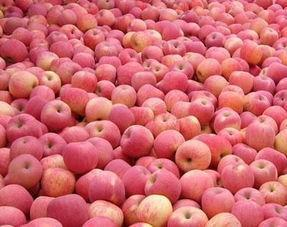apple: (4, 154, 42, 190), (143, 169, 183, 202), (88, 171, 126, 205), (63, 141, 100, 174), (174, 140, 210, 173), (39, 99, 73, 131), (119, 125, 153, 156), (39, 167, 74, 197), (201, 186, 234, 216), (152, 129, 184, 159), (88, 120, 121, 147), (9, 135, 43, 160), (249, 159, 279, 187), (6, 113, 41, 137), (223, 164, 255, 190), (209, 108, 241, 133), (168, 207, 208, 227), (9, 71, 39, 97), (38, 131, 67, 157), (258, 179, 287, 205), (85, 95, 112, 122), (188, 97, 214, 125), (234, 186, 265, 208), (111, 83, 138, 107), (153, 112, 181, 135), (37, 70, 62, 94), (196, 57, 223, 79), (82, 28, 106, 48), (93, 80, 117, 98), (172, 58, 193, 78), (163, 39, 187, 56), (119, 47, 141, 64), (204, 31, 225, 48)
